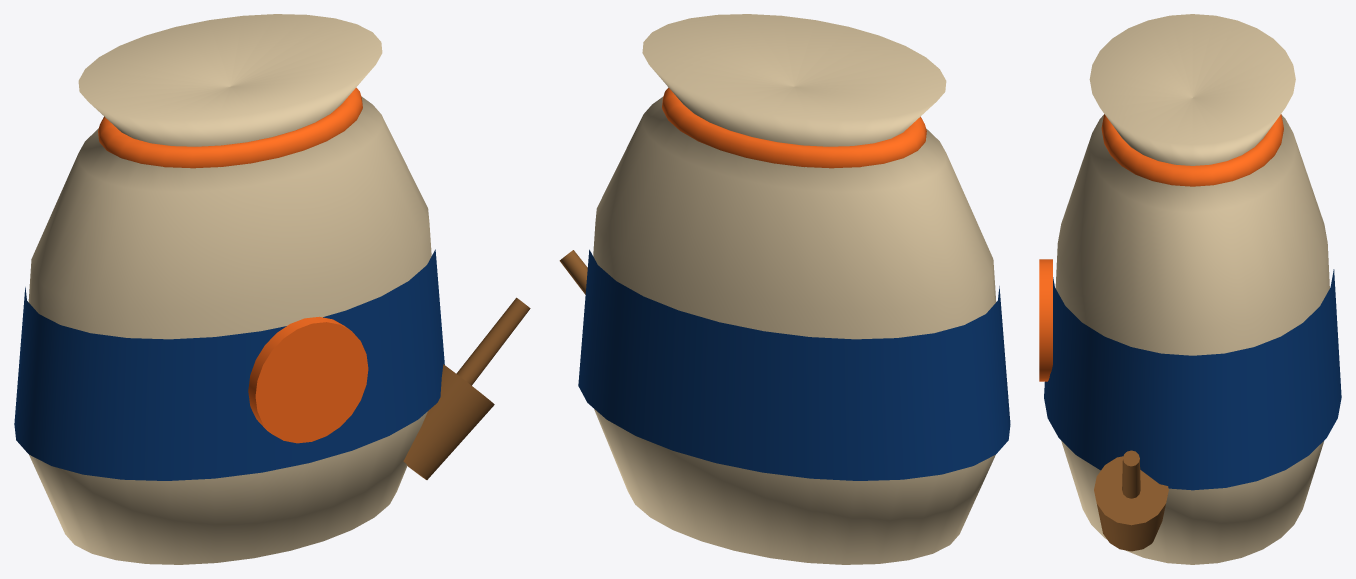
Rendered from rice-bag.glb.
3 renders of one model, left to right at view 1: azimuth 30°, elevation 25°; view 2: azimuth 150°, elevation 25°; view 3: azimuth 270°, elevation 25°, orthographic. The views are drawn at different scales.
Visible parts, largest first — view 1: RiceBag; view 2: RiceBag; view 3: RiceBag.
Boxes of the visible parts, box(x1,y1,x2,y2) form: RiceBag: box(14, 14, 530, 564); RiceBag: box(559, 14, 1010, 564); RiceBag: box(1039, 14, 1341, 564).
Size of the model in its own units: 1.49 by 1.36 by 0.8866.
